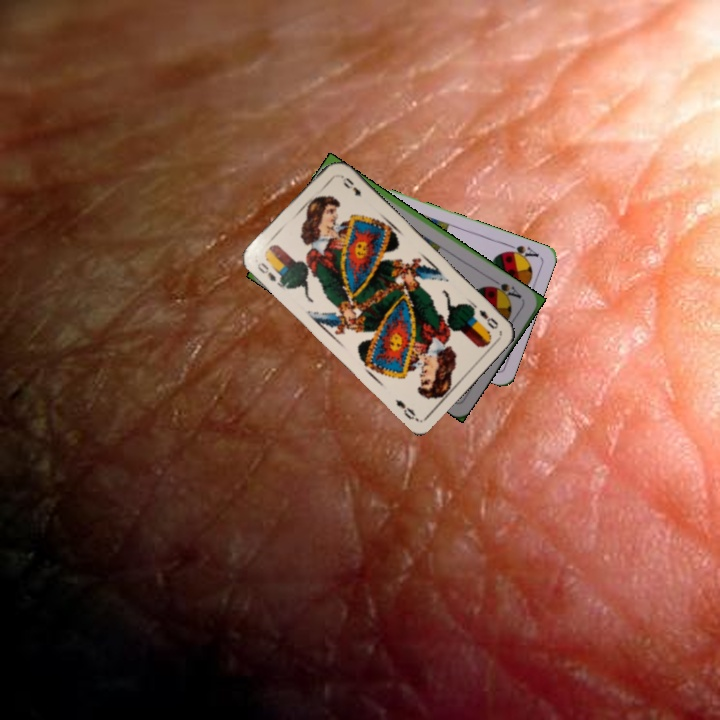EO: (253, 258, 286, 289), (475, 306, 501, 332)
SA: (486, 276, 524, 302), (500, 239, 541, 263)
